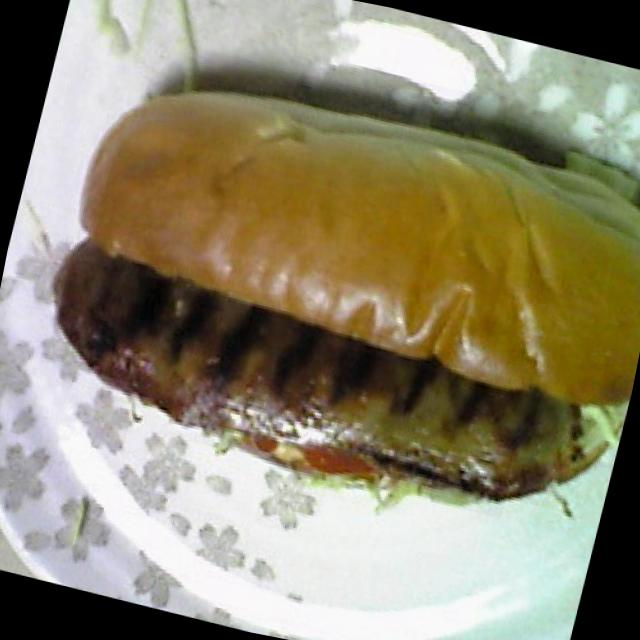Hot Dog: (18, 63, 640, 555)
